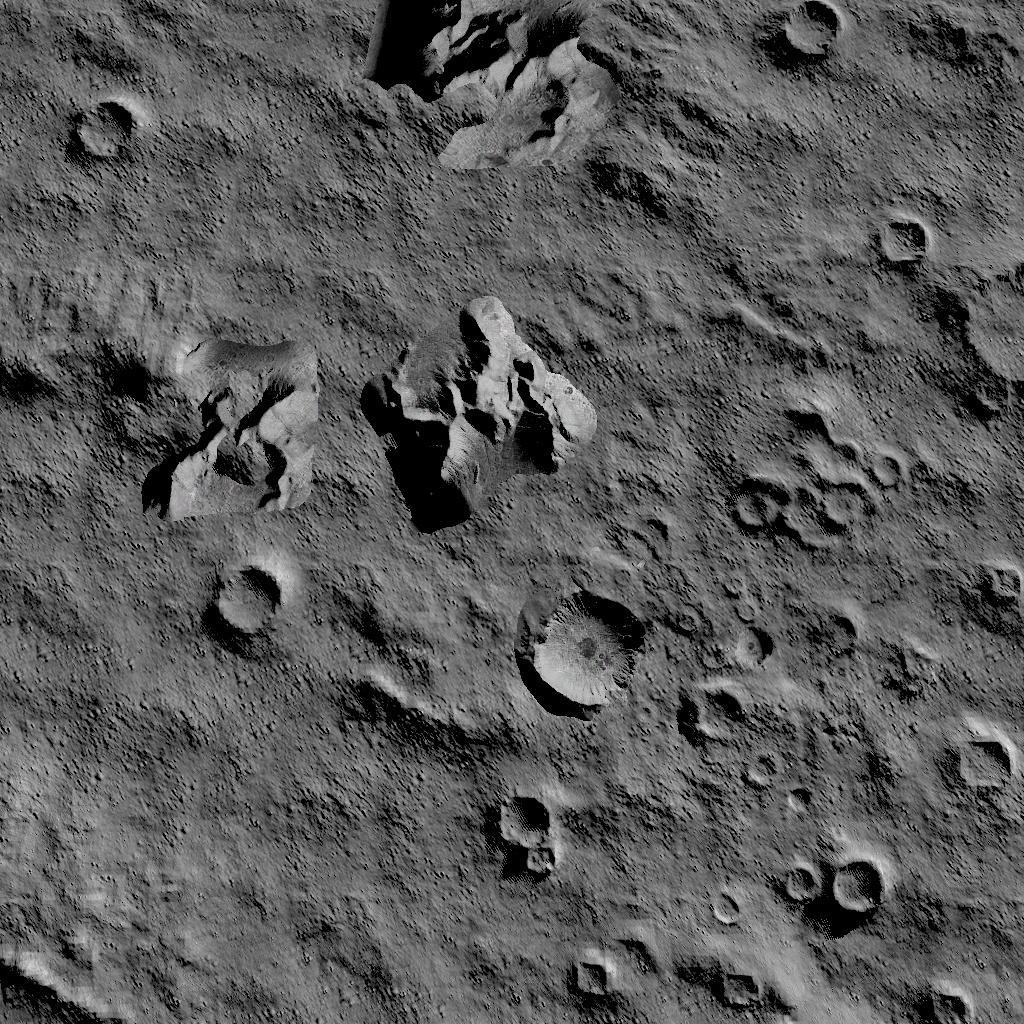Boulders: (358, 306, 597, 530), (363, 0, 639, 174), (101, 336, 314, 528)
Crater: (722, 410, 898, 558), (520, 590, 648, 714), (948, 268, 1024, 418), (206, 564, 285, 642), (779, 859, 885, 916), (488, 799, 560, 881), (66, 96, 142, 162), (676, 688, 750, 748), (773, 2, 842, 64), (947, 737, 1015, 798), (868, 220, 934, 274), (708, 966, 766, 1014), (972, 565, 1024, 609), (726, 626, 772, 674), (568, 959, 614, 1007), (917, 988, 975, 1024), (703, 892, 744, 932), (733, 756, 776, 786), (782, 795, 814, 822)
Plan surface: (3, 752, 475, 968), (155, 0, 349, 322), (677, 82, 1024, 214), (3, 536, 191, 744)
